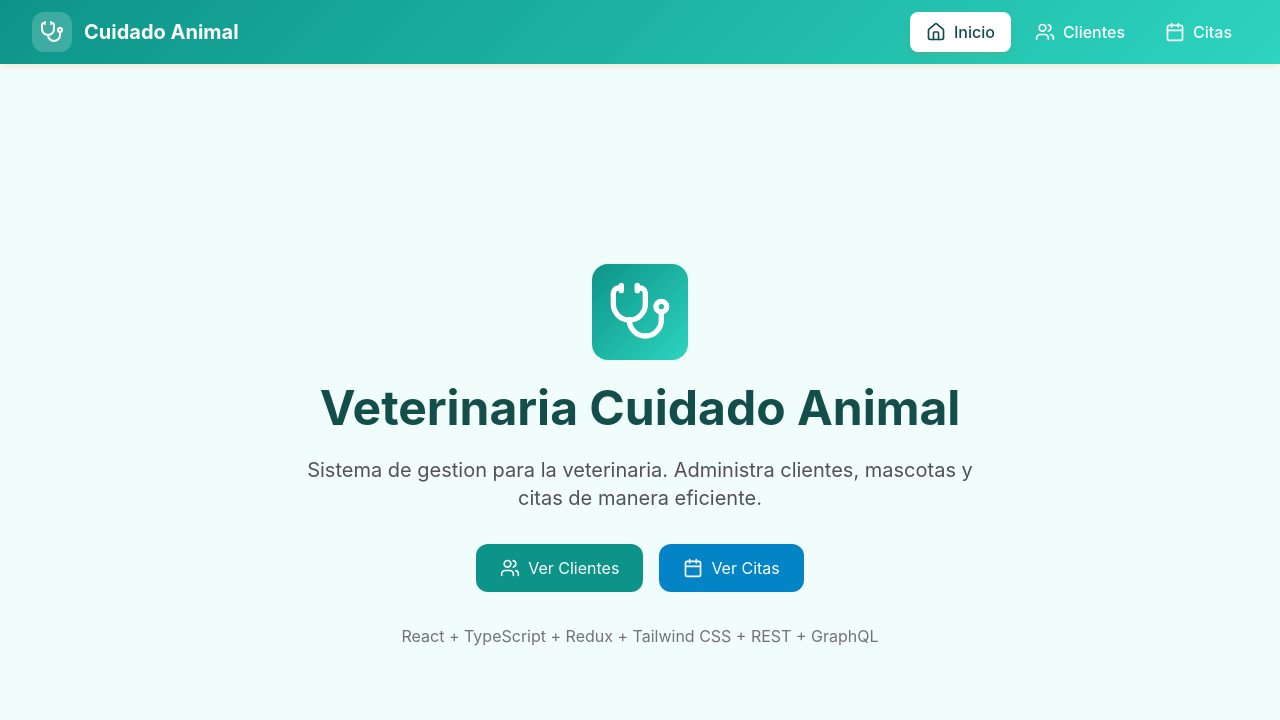
Test: Navigation › navigates to clients page from home
This screenshot has width=1280, height=720.
Click the link "Ver Clientes". click: (560, 568)
box: [476, 544, 643, 592]
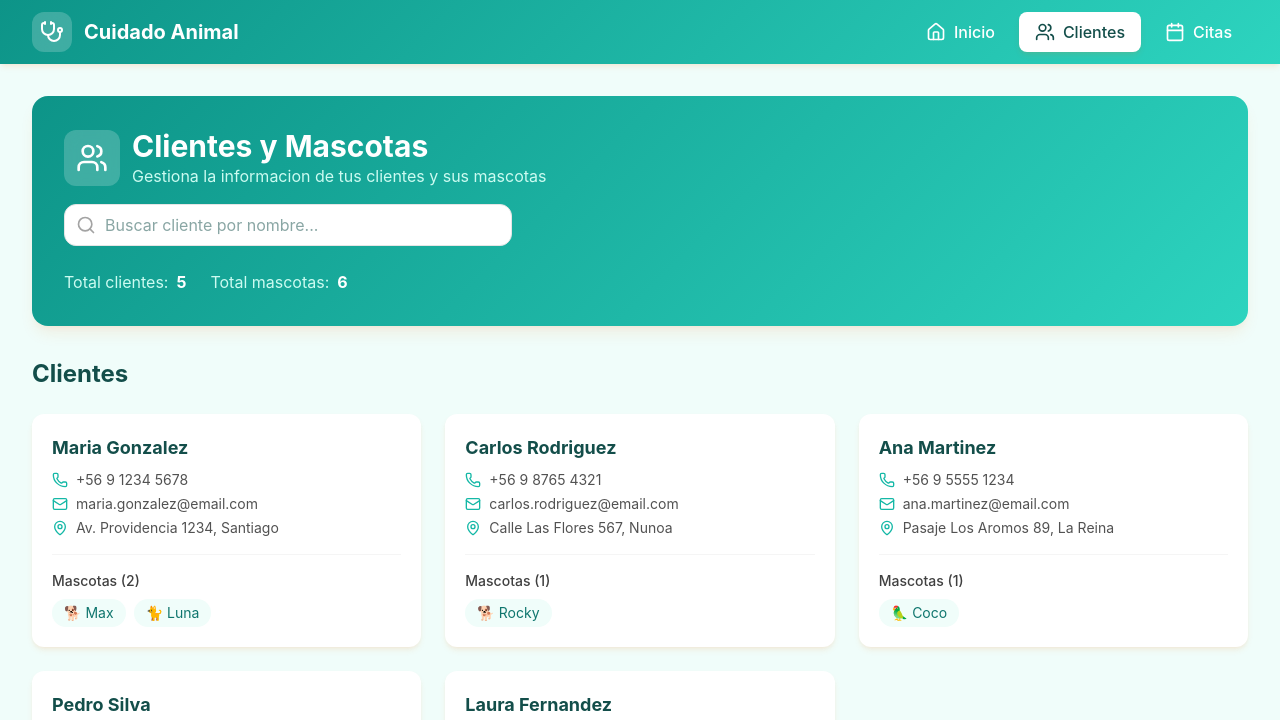
Now the heading "Clientes y Mascotas" is shown, box [132, 128, 428, 164]
